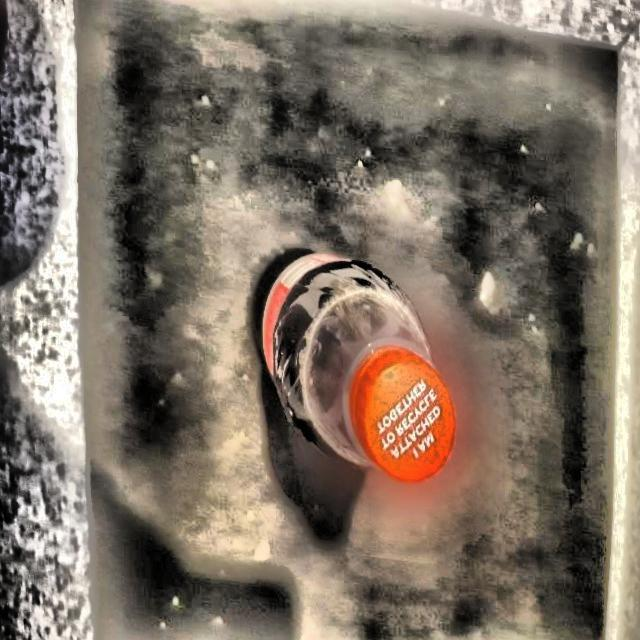coke-bottle: (240, 247, 454, 493)
